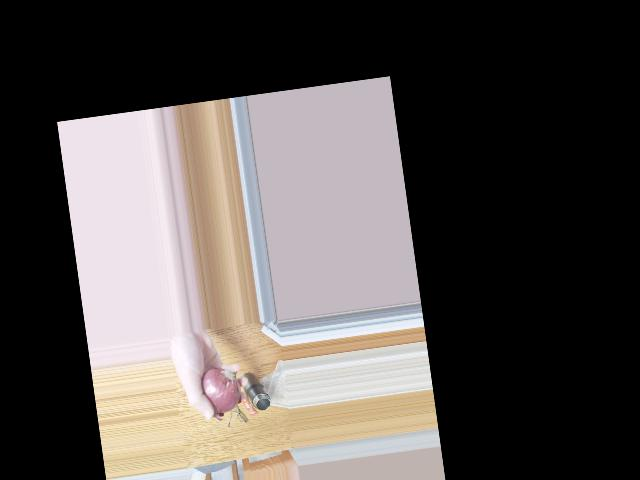onion: (194, 368, 237, 411)
